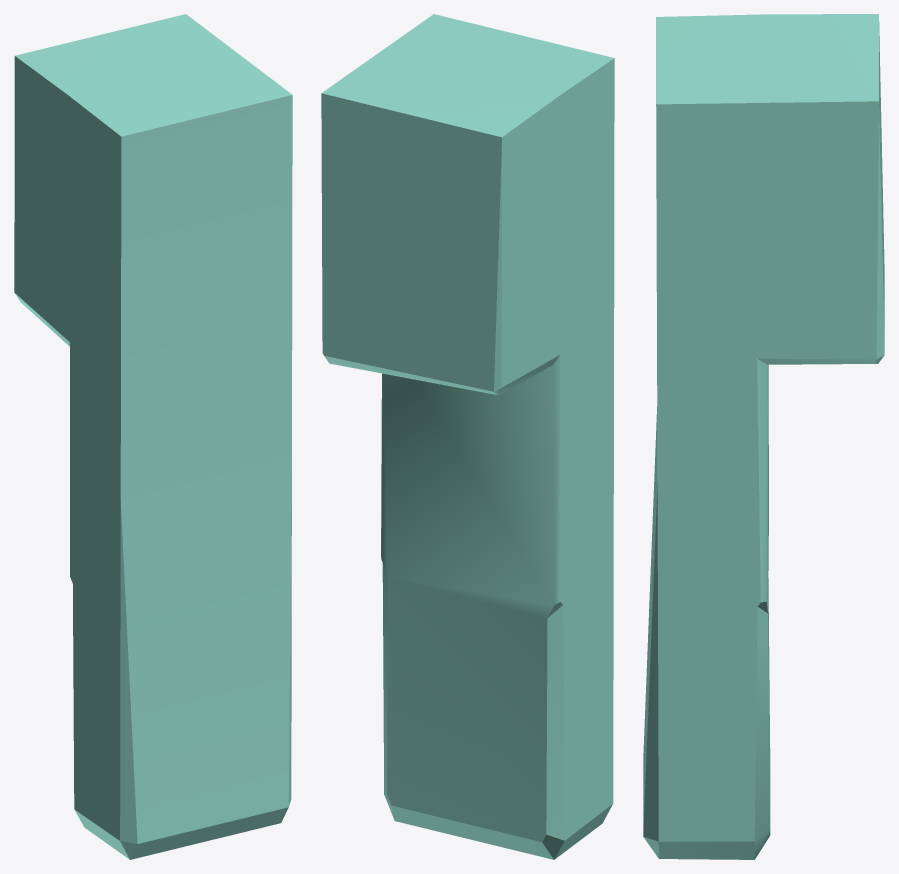
The model's file is SingleBrickWithHalfMissing_alpha.FBX.
The picture shows the model from 3 angles, left to right: view 1: azimuth 30°, elevation 25°; view 2: azimuth 150°, elevation 25°; view 3: azimuth 270°, elevation 25°; orthographic projection. The views are drawn at different scales.
Visible parts, largest first — view 1: Box002; view 2: Box002; view 3: Box002.
Part boxes in pixels (box(x1,y1,x2,y2)): Box002: box(14, 14, 292, 859); Box002: box(321, 14, 614, 859); Box002: box(643, 14, 884, 859).
Size of the model in its own units: 19.42 by 79.16 by 22.69.
